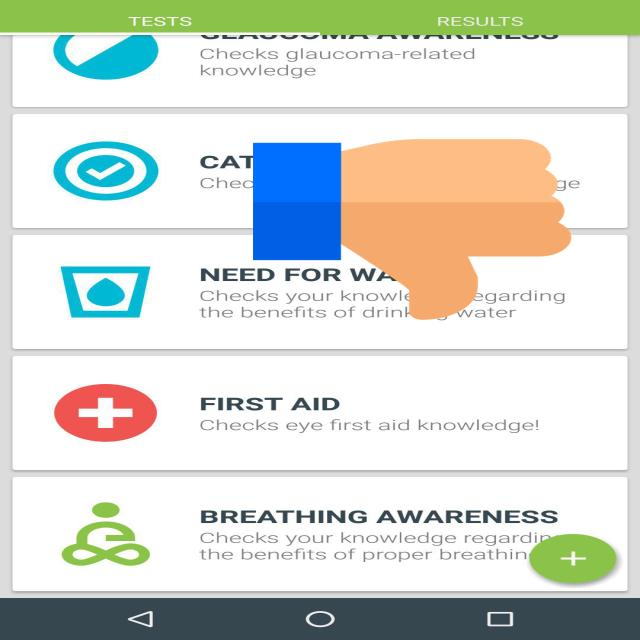obstruction: (253, 135, 571, 324)
